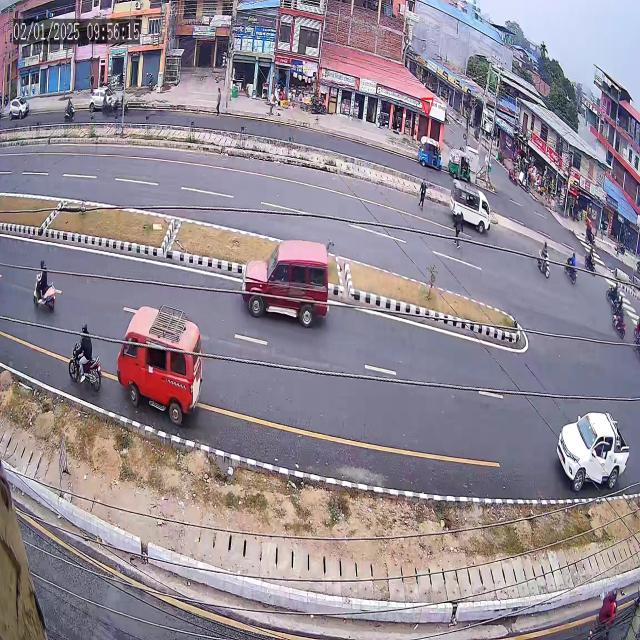car: (234, 225, 339, 345), (542, 397, 634, 508)
motorcycle: (64, 318, 107, 394), (26, 246, 66, 320), (590, 565, 620, 640), (531, 234, 557, 286), (562, 236, 582, 294)
van: (112, 282, 209, 448), (449, 175, 495, 238)
